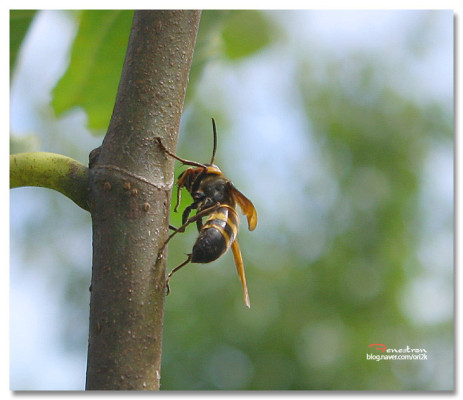asian_giant_hornet: (156, 112, 264, 311)
